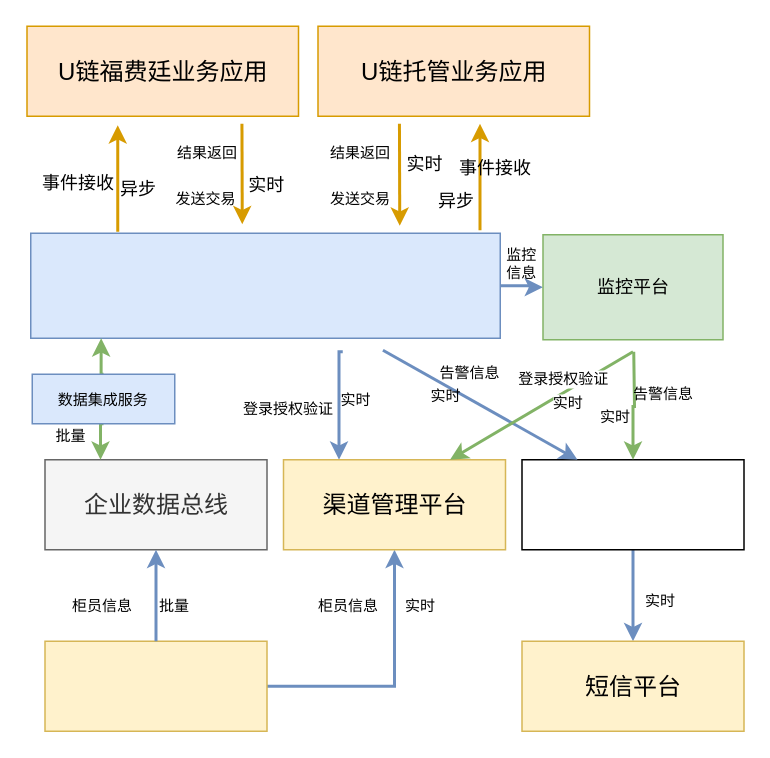
Some shapes in this 770 by 758 pixel diagram are drawn without their labels. The shapes that lost their labels are listed below. From the top down, each one's centre as x and y in pixels, then its label:
the point at 264,285: 区块链服务平台
the point at 632,504: 企业服务总线
the point at 155,685: 柜员管理系统
